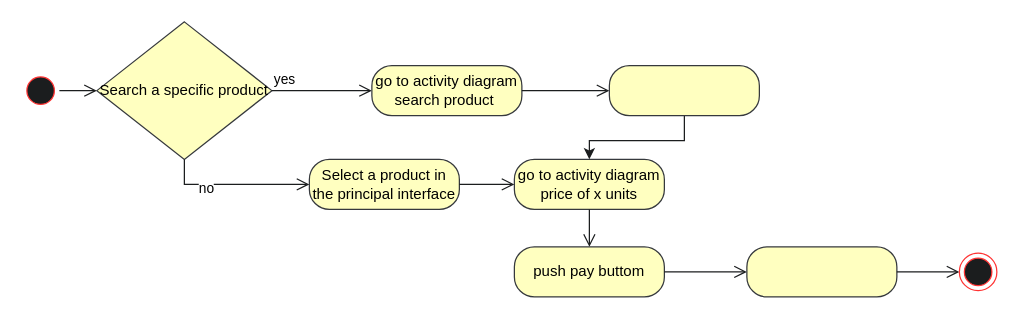
Some shapes in this 1019 by 319 pixel diagram are drawn without their labels. Each missing label, with the box of its shape:
go to activity diagram payment process: (746, 246, 897, 297)
go to activity diagram select product: (608, 64, 759, 116)
